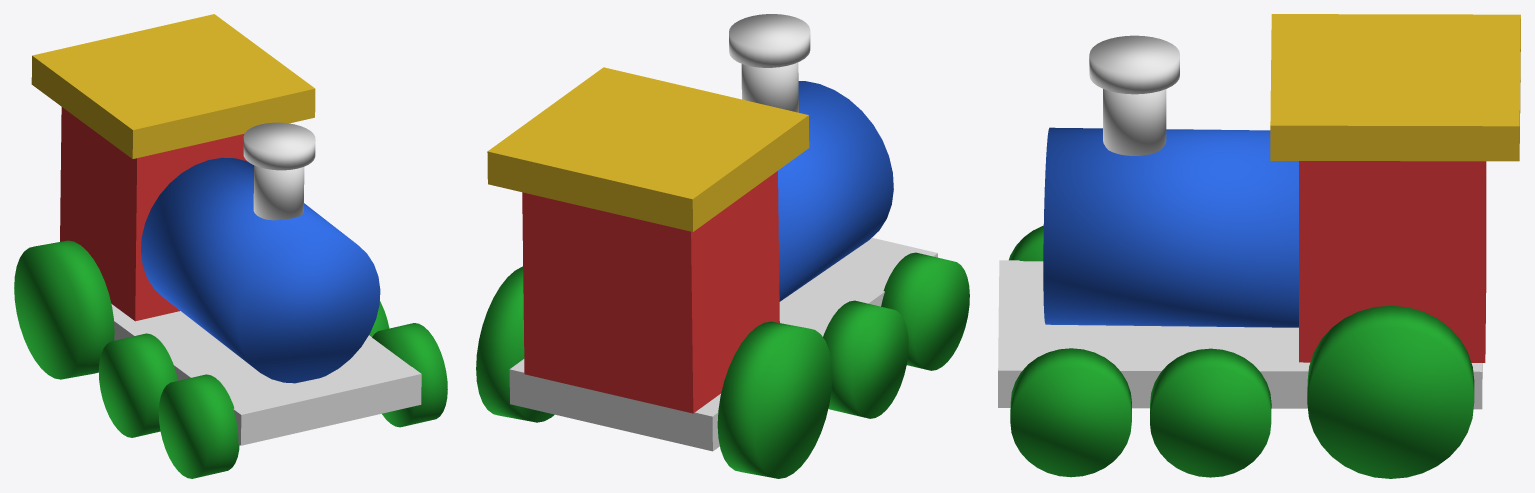
The model's file is trencito_madera.glb.
3 views of the same model, side by side, from view 1: azimuth 30°, elevation 25°; view 2: azimuth 150°, elevation 25°; view 3: azimuth 270°, elevation 25° (orthographic). The views are drawn at different scales.
Visible parts, largest first — view 1: Cylinder, Cube.002, Cube, Cube.001, Cylinder.004, Cylinder.008, Cylinder.007, Cylinder.006, Cylinder.002, Cylinder.001; view 2: Cube.001, Cube.002, Cylinder, Cylinder.004, Cube, Cylinder.007, Cylinder.008, Cylinder.003, Cylinder.002, Cylinder.001; view 3: Cylinder, Cube.002, Cube.001, Cylinder.003, Cube, Cylinder.005, Cylinder.006, Cylinder.002, Cylinder.001, Cylinder.008.
Part boxes in pixels (box(x1,y1,x2,y2)): Cylinder: box(141, 157, 380, 383); Cube.002: box(31, 14, 315, 158); Cube: box(111, 304, 421, 445); Cube.001: box(60, 107, 247, 321); Cylinder.004: box(14, 240, 114, 379); Cylinder.008: box(158, 374, 239, 478); Cylinder.007: box(98, 333, 177, 437); Cylinder.006: box(372, 323, 447, 427); Cylinder.002: box(243, 122, 315, 170); Cylinder.001: box(253, 165, 304, 220); Cube.001: box(522, 171, 779, 413); Cube.002: box(487, 67, 809, 231); Cylinder: box(778, 81, 893, 301); Cylinder.004: box(717, 321, 832, 478); Cube: box(509, 237, 937, 451); Cylinder.007: box(823, 300, 908, 418); Cylinder.008: box(881, 252, 969, 370); Cylinder.003: box(476, 266, 554, 422); Cylinder.002: box(729, 14, 810, 67); Cylinder.001: box(741, 62, 798, 112); Cylinder: box(1043, 127, 1298, 327); Cube.002: box(1270, 14, 1520, 161); Cube.001: box(1299, 161, 1486, 362); Cylinder.003: box(1307, 305, 1474, 478); Cube: box(998, 260, 1482, 409); Cylinder.005: box(1150, 348, 1271, 477); Cylinder.006: box(1010, 348, 1131, 477); Cylinder.002: box(1089, 35, 1179, 94); Cylinder.001: box(1103, 89, 1166, 155); Cylinder.008: box(1009, 225, 1043, 261).
Size of what is drawn, in the model's own units: 4.82 by 5.36 by 7.18.
